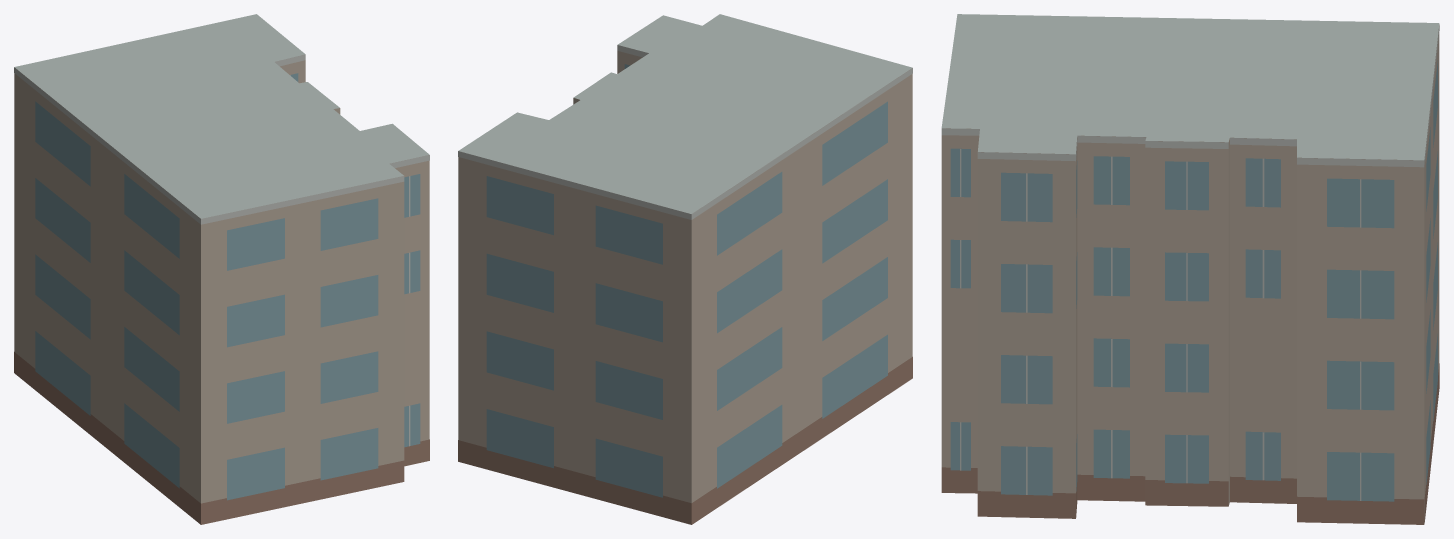
File: survey-upis-32907747.glb
3 renders of one model, left to right at view 1: azimuth 30°, elevation 25°; view 2: azimuth 150°, elevation 25°; view 3: azimuth 270°, elevation 25°, orthographic. The views are drawn at different scales.
Visible parts, largest first — view 1: survey-upis-32907747.tmp; view 2: survey-upis-32907747.tmp; view 3: survey-upis-32907747.tmp.
Boxes of the visible parts, x1=… form: survey-upis-32907747.tmp: x1=14, y1=14, x2=429, y2=524; survey-upis-32907747.tmp: x1=458, y1=14, x2=912, y2=524; survey-upis-32907747.tmp: x1=941, y1=14, x2=1439, y2=524.
Bounding box in the file's own units: 11.12 × 12.9 × 15.98.
